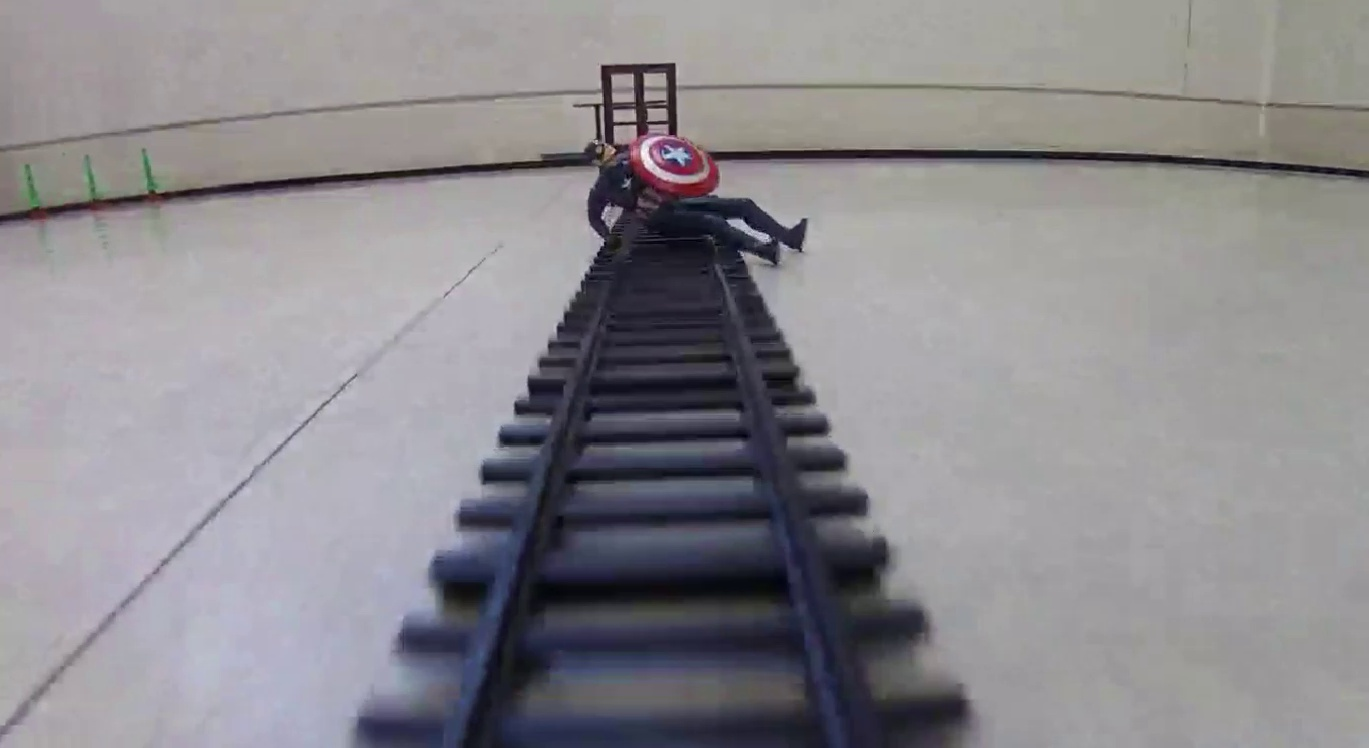people: (586, 134, 810, 273)
